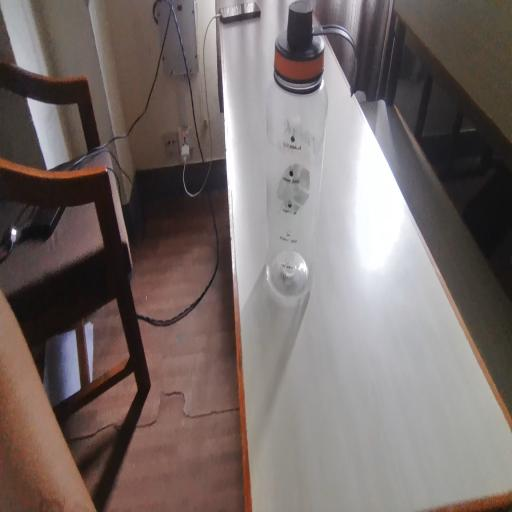Bottle: (264, 19, 345, 332)
